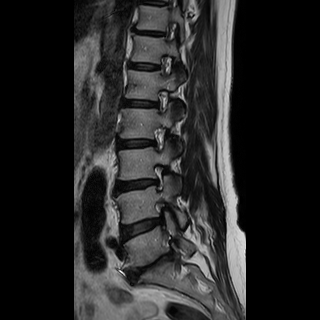LFS0: (148, 119, 169, 155), (151, 83, 171, 116)
LFS1: (149, 158, 170, 195)
